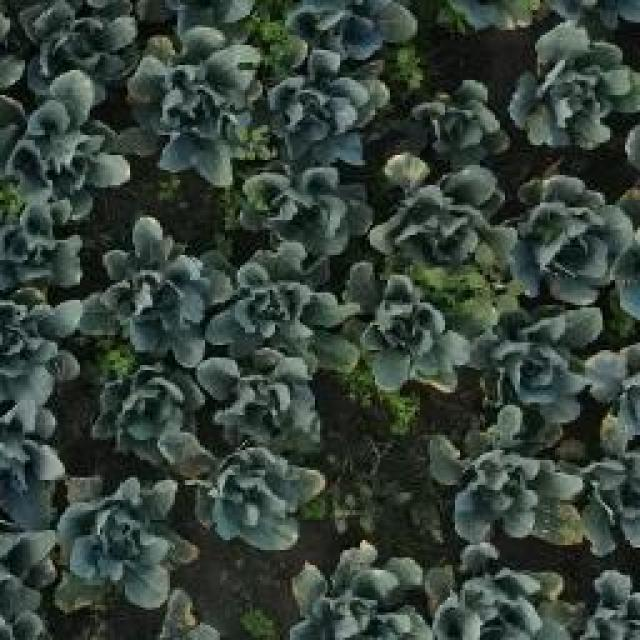cabbage: (47, 466, 185, 618), (130, 28, 258, 182), (425, 416, 582, 538), (505, 25, 640, 155), (512, 168, 634, 308), (186, 429, 320, 556), (345, 264, 474, 395), (476, 306, 608, 426), (98, 213, 210, 348), (263, 46, 392, 162), (429, 542, 580, 640), (7, 78, 131, 192), (289, 543, 429, 640), (197, 347, 330, 448), (210, 243, 325, 357), (93, 351, 207, 461), (240, 163, 368, 260), (18, 0, 144, 94), (410, 72, 512, 167), (388, 175, 488, 263)
